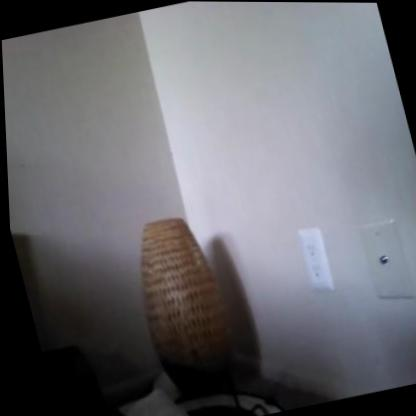OUTLET: (296, 224, 334, 291)
